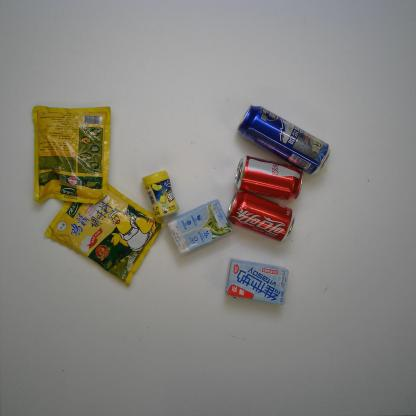Alcohol: (236, 103, 330, 176)
Drink: (226, 191, 295, 242), (233, 155, 304, 200)
Gum: (142, 170, 179, 219)
Milk: (167, 199, 232, 255), (225, 258, 289, 306)
Seasoner: (44, 180, 164, 287), (31, 105, 112, 205)
